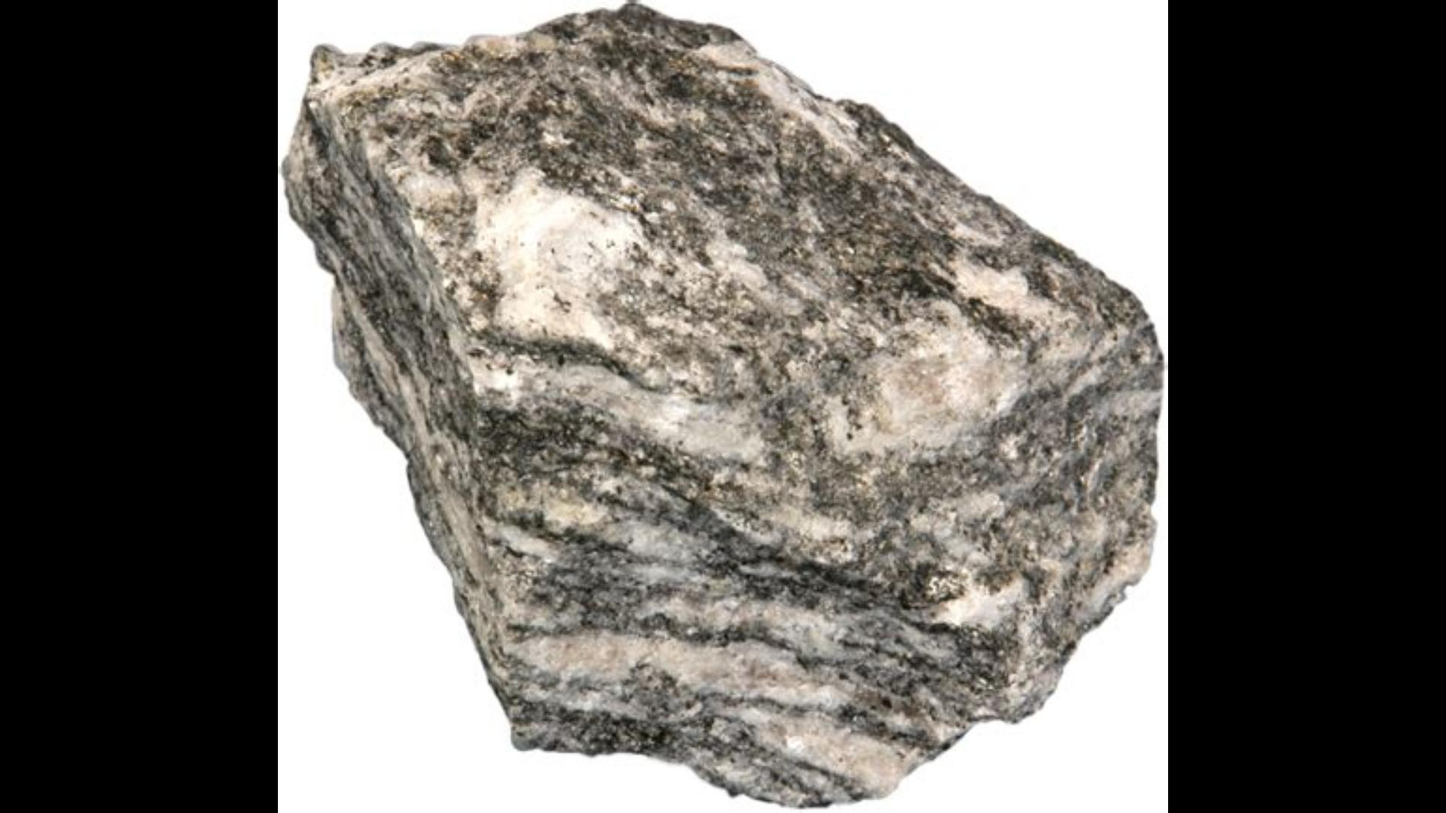rock: (285, 6, 1161, 804)
